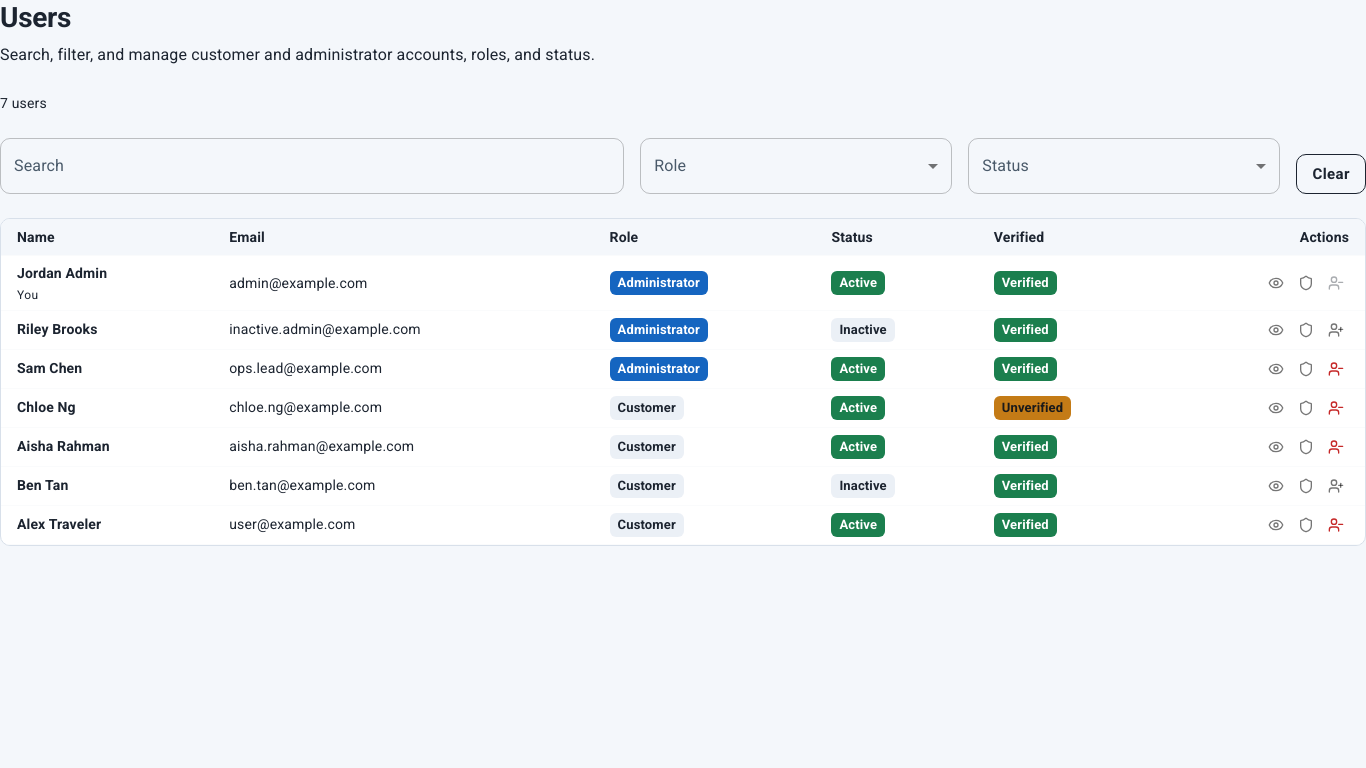
Scenario: AdminUsersPage › deactivates a user after confirmation
The image size is (1366, 768).
expect the text "user@example.com" is shown: met, box [213,506,594,545]
Click the button named "Deactivate user@example.com" at {"x": 1336, "y": 525}, box [1323,512,1349,538]
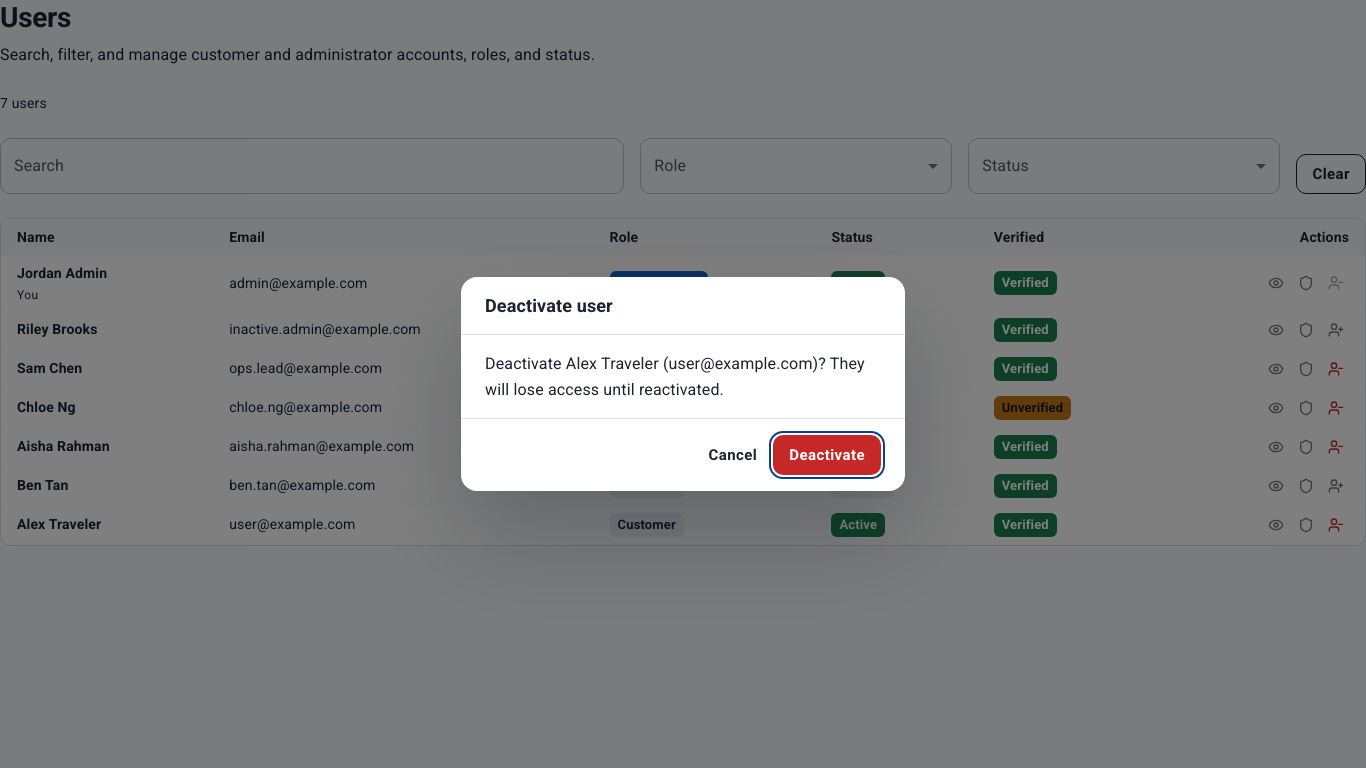
expect the heading "Deactivate user" is shown: met, box [485,295,613,316]
Click the button "Deactivate" at {"x": 827, "y": 455}, box [773,435,881,475]
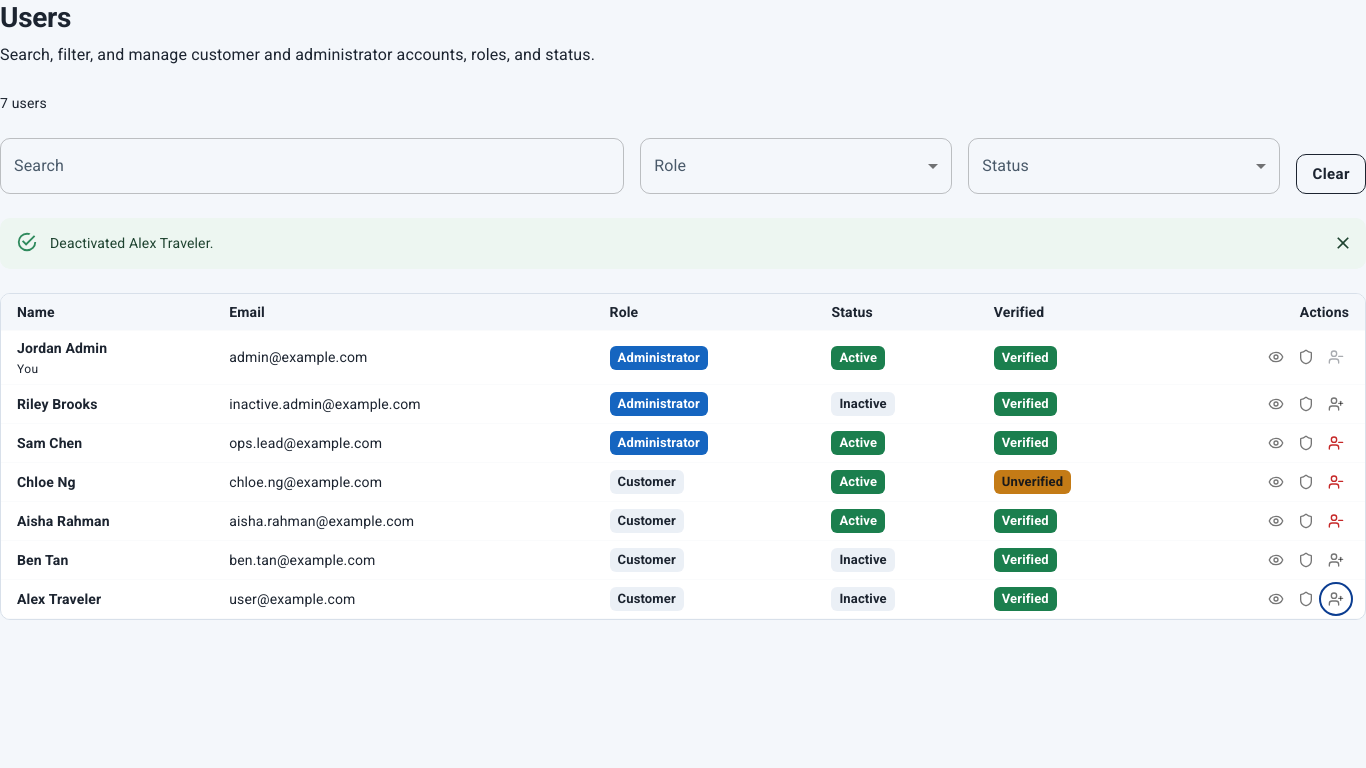
expect the text "Deactivated Alex Traveler." is shown: met, box [50,235,214,251]
